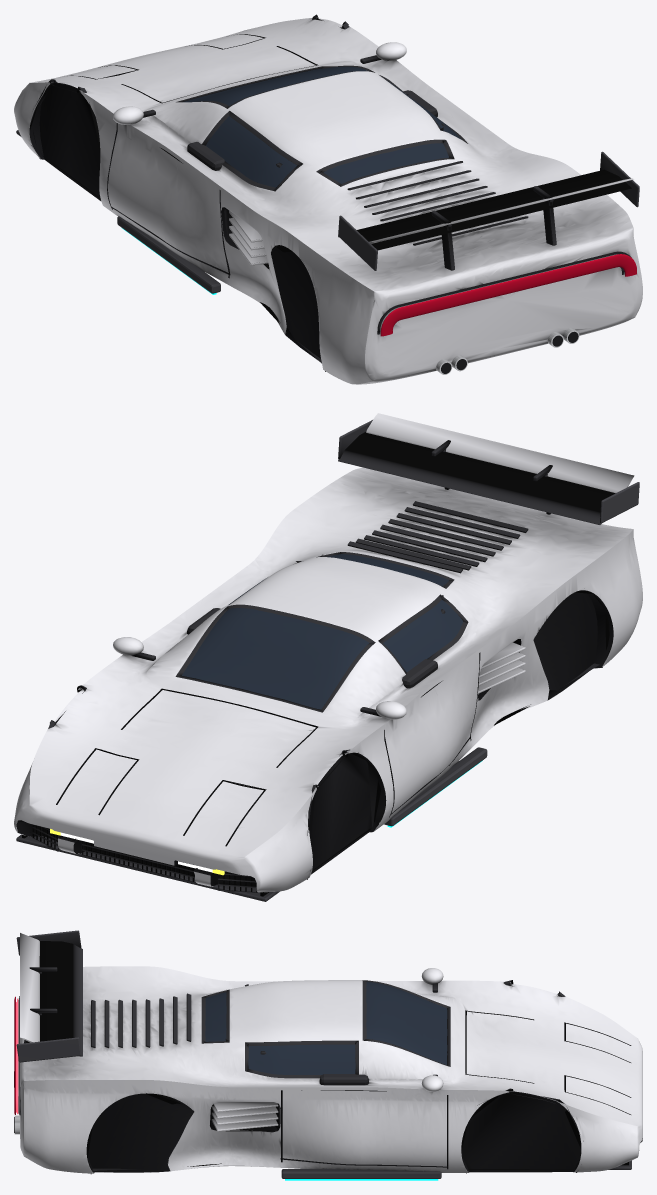
The model's file is razor_lo.glb.
The picture shows the model from 3 angles, top to bottom: view 1: azimuth 30°, elevation 25°; view 2: azimuth 150°, elevation 25°; view 3: azimuth 270°, elevation 25°; orthographic projection. The views are drawn at different scales.
Parts seen in each view (by area): view 1: body, glass_panes, wing, tail_lens, part.042, cabin_skin, part.033, tail_housing, dash, wing.001, part.036; view 2: body, glass_panes, wing, wing.001, cabin_skin, part.039, part.042, object 6, part.033, dash; view 3: body, glass_panes, wing, wing.001, cabin_skin, part.044, part.036, dash, part.033, part.011, part.008, part.010 (+1 smaller).
Part boxes in pixels (x1,y1,x2,y2): body: (14, 17, 642, 384); glass_panes: (183, 66, 461, 187); wing: (338, 169, 631, 250); tail_lens: (380, 254, 636, 336); part.042: (117, 216, 220, 293); cabin_skin: (29, 14, 444, 371); part.033: (338, 215, 377, 270); tail_housing: (377, 251, 631, 334); dash: (187, 90, 437, 170); wing.001: (369, 178, 633, 243); part.036: (600, 151, 639, 207); body: (14, 467, 642, 892); glass_panes: (182, 554, 463, 709); wing: (338, 432, 615, 524); wing.001: (366, 413, 634, 493); cabin_skin: (20, 552, 613, 886); part.039: (16, 834, 279, 901); part.042: (384, 747, 487, 826); object 6: (81, 841, 197, 883); part.033: (600, 482, 639, 523); dash: (187, 608, 437, 688); body: (20, 966, 642, 1173); glass_panes: (205, 981, 447, 1074); wing: (26, 941, 82, 1056); wing.001: (20, 933, 39, 1042); cabin_skin: (86, 980, 626, 1174); part.044: (281, 1169, 441, 1178); part.036: (16, 1037, 81, 1062); dash: (319, 1074, 368, 1085); part.033: (16, 930, 81, 955); part.011: (213, 1102, 278, 1112); part.008: (211, 1118, 278, 1131); part.010: (211, 1106, 278, 1118).
Size of the model in its own units: 2.09 by 1.14 by 4.61.
